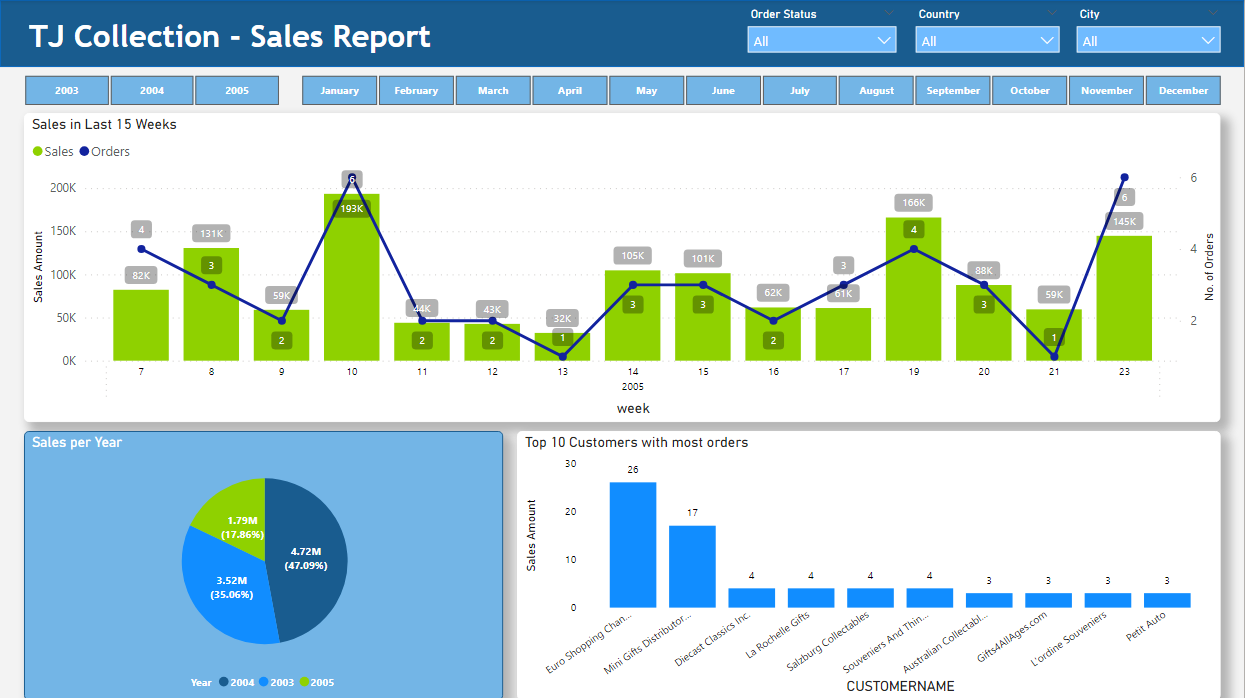

The dashboard page shown, as its layout file describes it:
{"tool":"powerbi","page":{"name":"Customers and Sales","canvas":[1280,720],"ordinal":3},"visuals":[{"type":"shape","box":[0,0,1280,68.9],"z":0},{"type":"slicer","fields":{"Values":["sales_data.ORDERDATE.Variation.Date Hierarchy.Year"]},"box":[0,71,310.7,44.2],"z":1000},{"type":"slicer","fields":{"Values":["sales_data.ORDERDATE.Variation.Date Hierarchy.Month"]},"box":[285,71,995,44.2],"z":2000},{"type":"slicer","fields":{"Values":["sales_data.CITY"]},"box":[1097.9,2.1,167.7,55.6],"z":3000},{"type":"slicer","fields":{"Values":["sales_data.COUNTRY"]},"box":[932.2,2.1,167.7,55.6],"z":4000},{"type":"slicer","fields":{"Values":["sales_data.STATUS"]},"box":[759.4,2.1,172.9,55.6],"z":5000},{"type":"textbox","box":[24.7,13.4,443.5,55.6],"z":6000},{"type":"lineClusteredColumnComboChart","title":"Sales in Last 15 Weeks","fields":{"Category":["sales_data.ORDERDATE.Variation.Date Hierarchy.Year","sales_data.week"],"Y":["Sum(sales_data.SALES)"],"Y2":["Count(sales_data.ORDERNUMBER)"]},"box":[24.9,116.1,1231.3,318.2],"z":7000},{"type":"pieChart","title":"Sales per Year","fields":{"Category":["sales_data.YEAR_ID"],"Y":["Sum(sales_data.SALES)"]},"box":[24.9,443.6,493.3,276.7],"z":8000},{"type":"columnChart","title":"Top 10 Customers with most orders","fields":{"Category":["sales_data.CUSTOMERNAME"],"Y":["Count(sales_data.ORDERNUMBER)"]},"box":[531.7,443.6,724.5,276.7],"z":9000}]}

Visuals, with their boxes in screenshot pixels (x1, y1, x2, y2), scaled from the page's 1280x720 canvas onto the 1245x698 screenshot:
shape: 0:0:1244:67
slicer - sales_data.ORDERDATE.Variation.Date Hierarchy.Year: 0:69:302:112
slicer - sales_data.ORDERDATE.Variation.Date Hierarchy.Month: 277:69:1244:112
slicer - sales_data.CITY: 1068:2:1231:56
slicer - sales_data.COUNTRY: 907:2:1070:56
slicer - sales_data.STATUS: 739:2:907:56
textbox: 24:13:455:67
"Sales in Last 15 Weeks" lineClusteredColumnComboChart: 24:113:1222:421
"Sales per Year" pieChart: 24:430:504:697
"Top 10 Customers with most orders" columnChart: 517:430:1222:697
